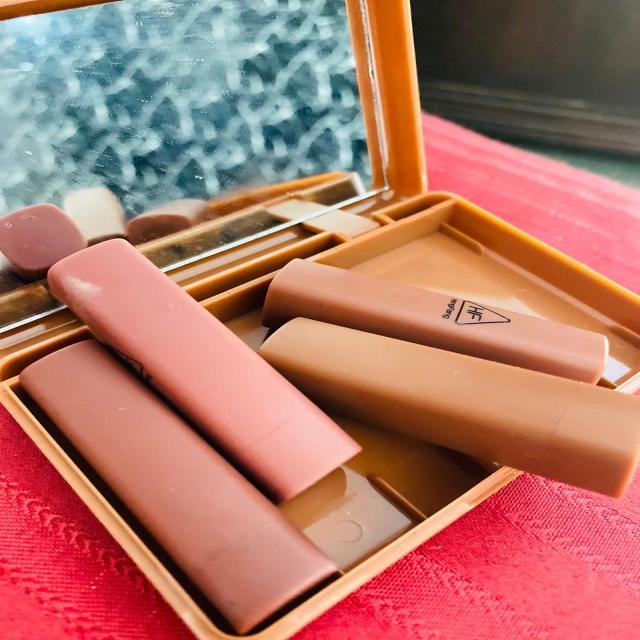lip stick: (28, 204, 640, 640)
